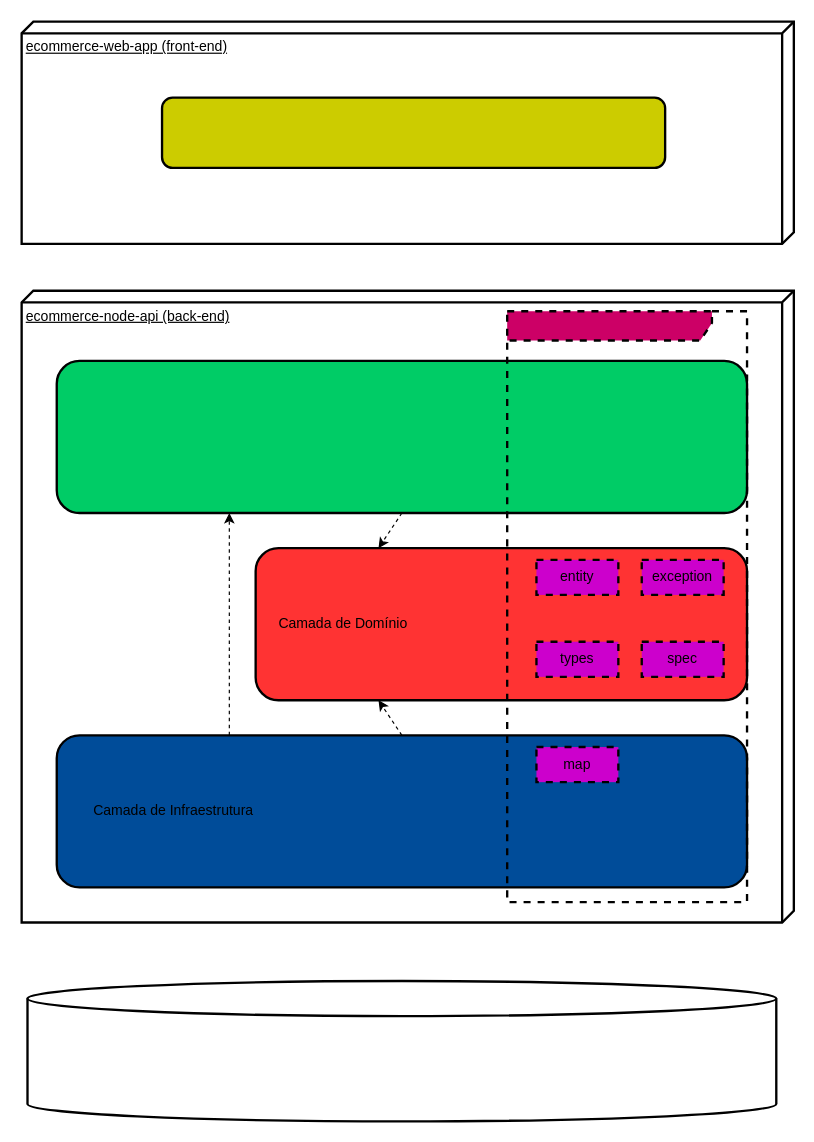
This 814x1142 diagram has some shape labels left out. Here are the shapes that lost their labels. From the top down, the centre of each, then its label:
(413,132): Camada de Apresentação
(401,436): Camada de Aplicação
(626,606): Módulo/Subdomínio
(401,1050): Database (Relacional)
